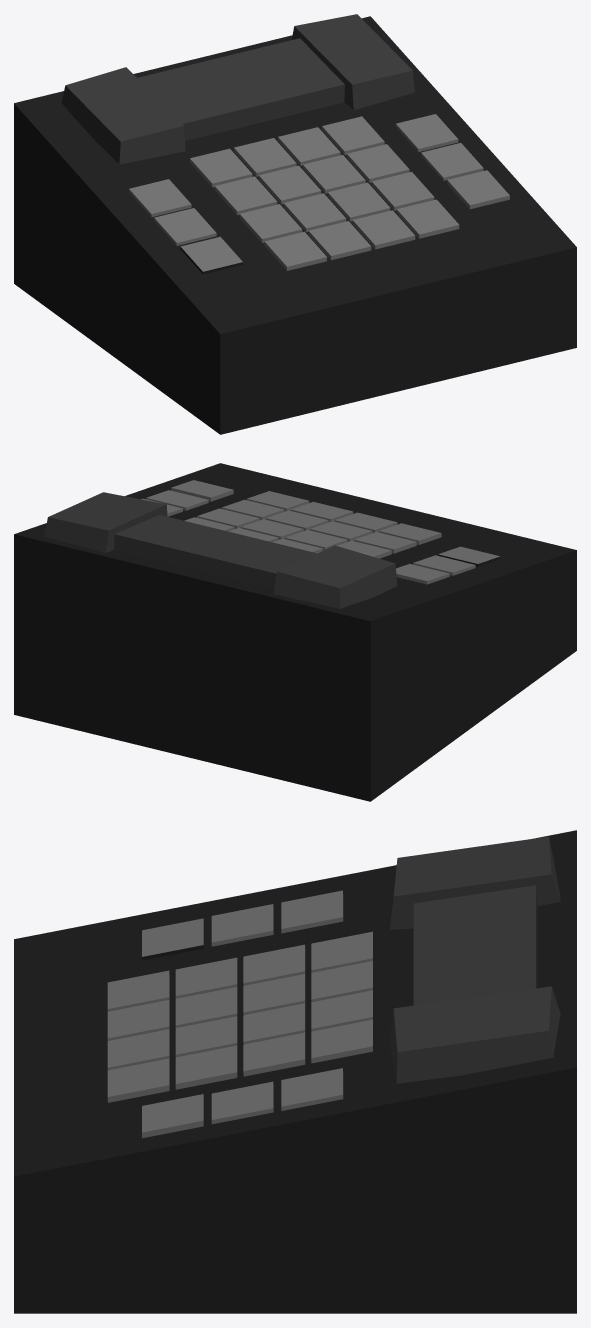
The model's file is Phone.fbx.
3 views of the same model, one above another, from view 1: azimuth 30°, elevation 25°; view 2: azimuth 150°, elevation 25°; view 3: azimuth 270°, elevation 25° (orthographic). The views are drawn at different scales.
Visible parts, largest first — view 1: Phone; view 2: Phone; view 3: Phone.
Boxes of the visible parts, bbox=[...] form: Phone: bbox=[14, 14, 576, 434]; Phone: bbox=[14, 463, 576, 801]; Phone: bbox=[14, 830, 576, 1313].
Bounding box in the file's own units: 59.66 × 31.72 × 59.82.
